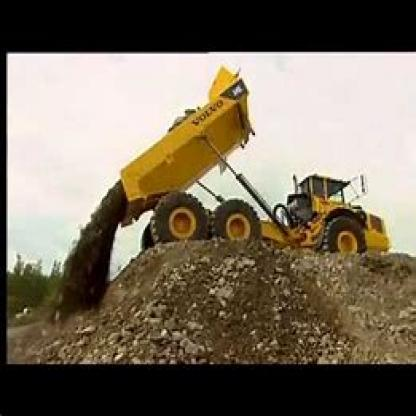dump_truck: (94, 59, 408, 287)
